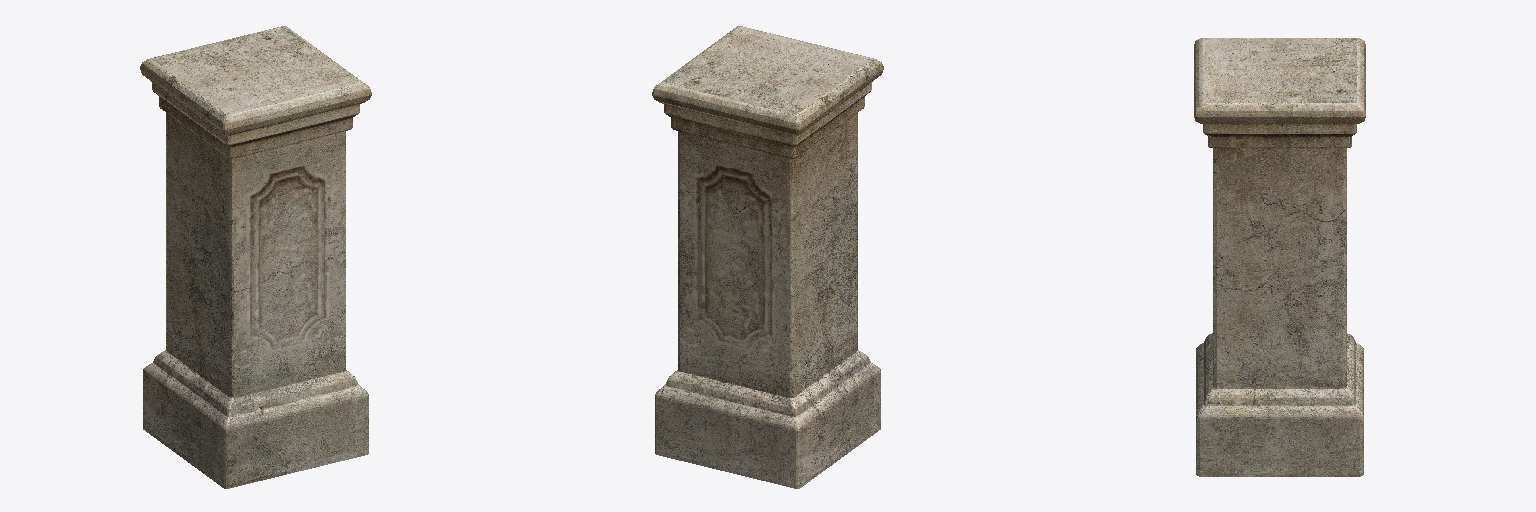
3 renders of one model, left to right at view 1: azimuth 30°, elevation 25°; view 2: azimuth 150°, elevation 25°; view 3: azimuth 270°, elevation 25°, orthographic.
Visible parts, largest first — view 1: pedestal1; view 2: pedestal1; view 3: pedestal1.
Boxes of the visible parts, box(x1,y1,x2,y2) form: pedestal1: box(140, 26, 371, 488); pedestal1: box(652, 26, 883, 488); pedestal1: box(1194, 38, 1365, 476).
Size of the model in its own units: 1.22 by 2.9 by 1.22.
1 materials, 1 textured.